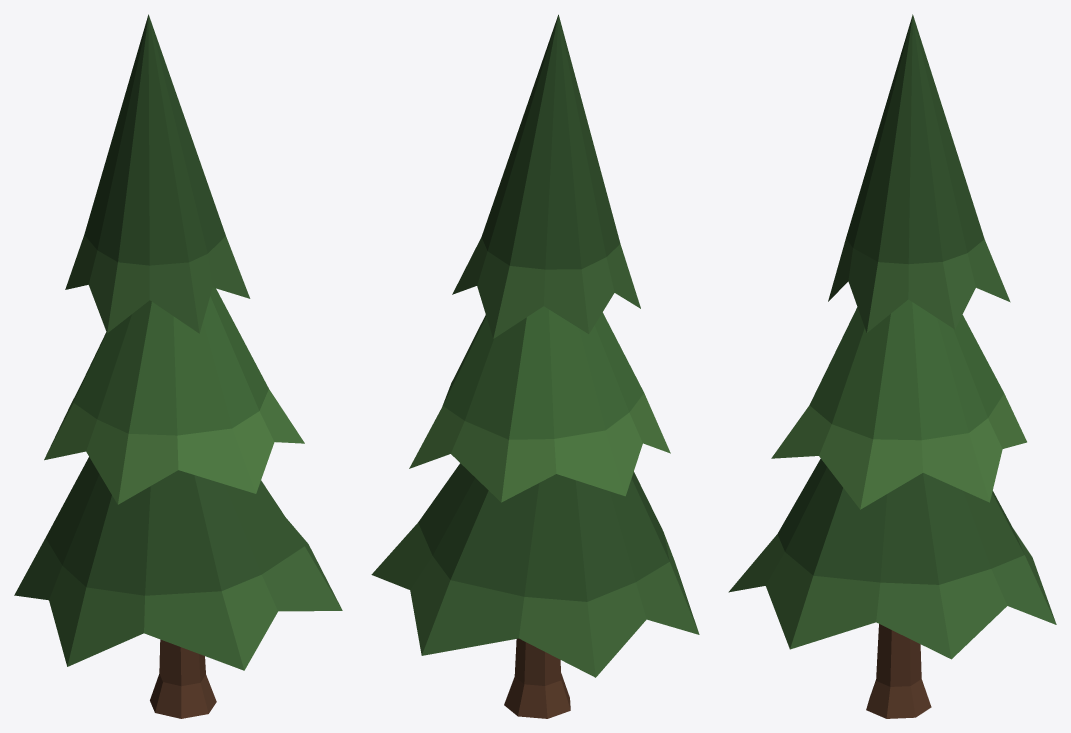
Rendered from World_PineSmall.fbx.
The picture shows the model from 3 angles, left to right: view 1: azimuth 30°, elevation 25°; view 2: azimuth 150°, elevation 25°; view 3: azimuth 270°, elevation 25°; orthographic projection. The views are drawn at different scales.
Visible parts, largest first — view 1: FoliageA, TipsA, FoliageB, TipsB, Trunk; view 2: FoliageA, TipsA, FoliageB, TipsB, Trunk; view 3: FoliageA, TipsA, FoliageB, TipsB, Trunk.
Boxes of the visible parts, <box> form: FoliageA: <box>45,14,304,595</box>; TipsA: <box>14,235,342,670</box>; FoliageB: <box>73,287,268,435</box>; TipsB: <box>44,383,304,504</box>; Trunk: <box>150,639,216,718</box>; FoliageA: <box>418,14,669,601</box>; TipsA: <box>371,237,699,677</box>; FoliageB: <box>443,306,643,439</box>; TipsB: <box>409,393,670,502</box>; Trunk: <box>504,638,570,718</box>; FoliageA: <box>777,14,1024,584</box>; TipsA: <box>728,238,1056,659</box>; FoliageB: <box>809,299,1004,440</box>; TipsB: <box>771,393,1026,509</box>; Trunk: <box>866,624,931,718</box>.
Bounding box in the file's own units: 457 × 1100 × 483.
